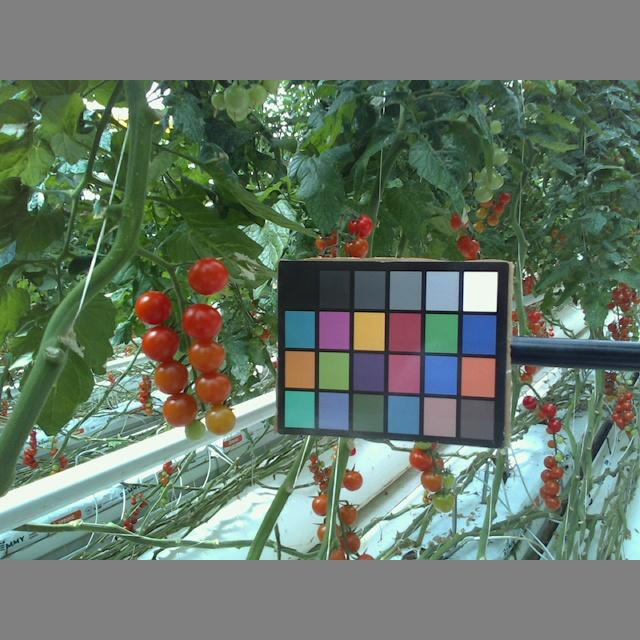green: (430, 490, 459, 514), (183, 420, 207, 440)
pink: (185, 341, 225, 375), (152, 361, 190, 395), (193, 371, 232, 403), (162, 395, 199, 426), (204, 406, 235, 434), (408, 446, 434, 472), (336, 503, 359, 527), (420, 468, 442, 492), (341, 469, 363, 492), (311, 492, 331, 517), (338, 532, 359, 554)
red: (180, 302, 223, 341), (187, 257, 228, 295), (141, 323, 180, 360), (134, 289, 170, 325), (346, 213, 374, 239), (313, 228, 341, 251), (344, 235, 368, 256)
